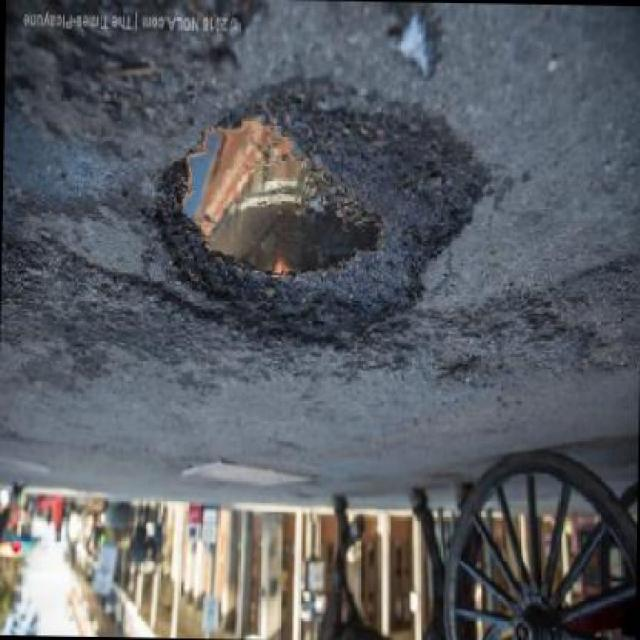pothole1: (145, 78, 498, 362)
